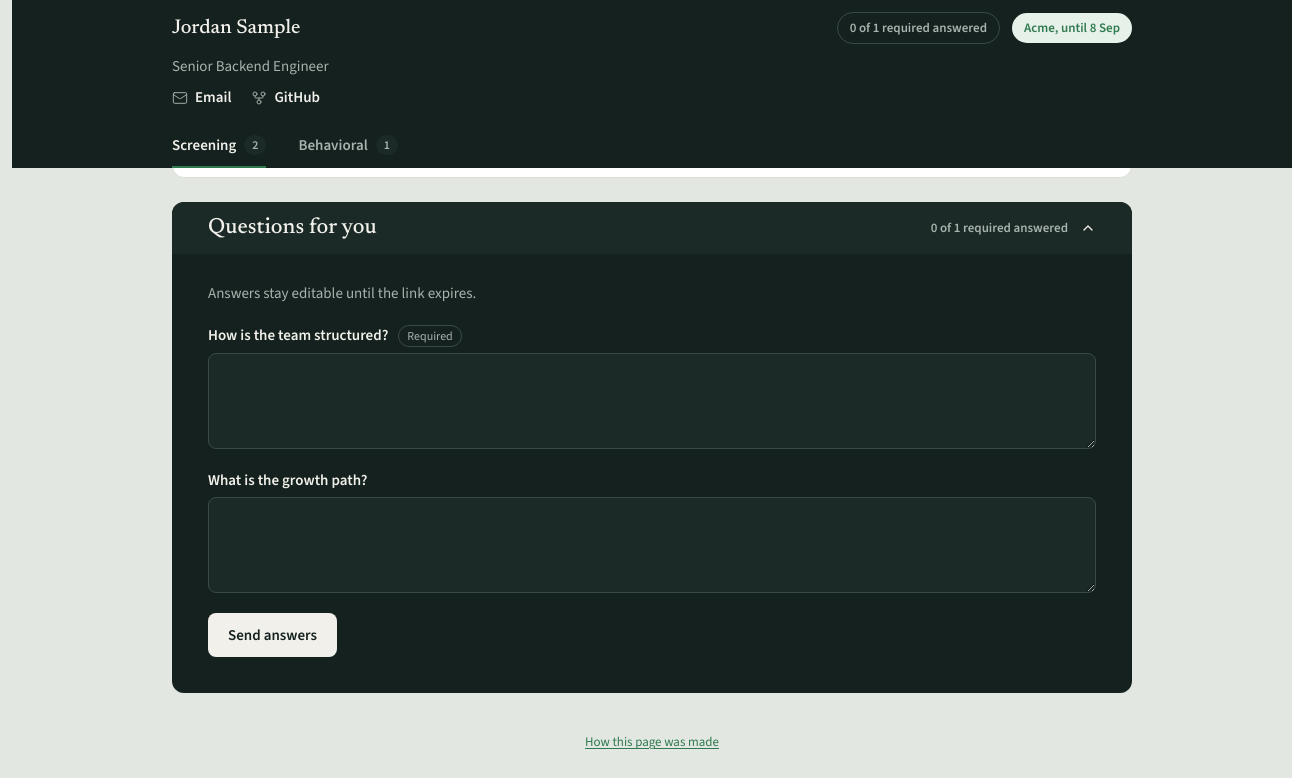
Test: SessionPage › submits answers and shows a submitted state on 201
(page scrolled)
Expected: the heading "Jordan Sample" is shown, [172,18,300,38]
Type "A small platform team." into the text box labelled "How is the team structured? Required".
click(652, 401); type("A small platform team.")  # box [208,353,1096,449]
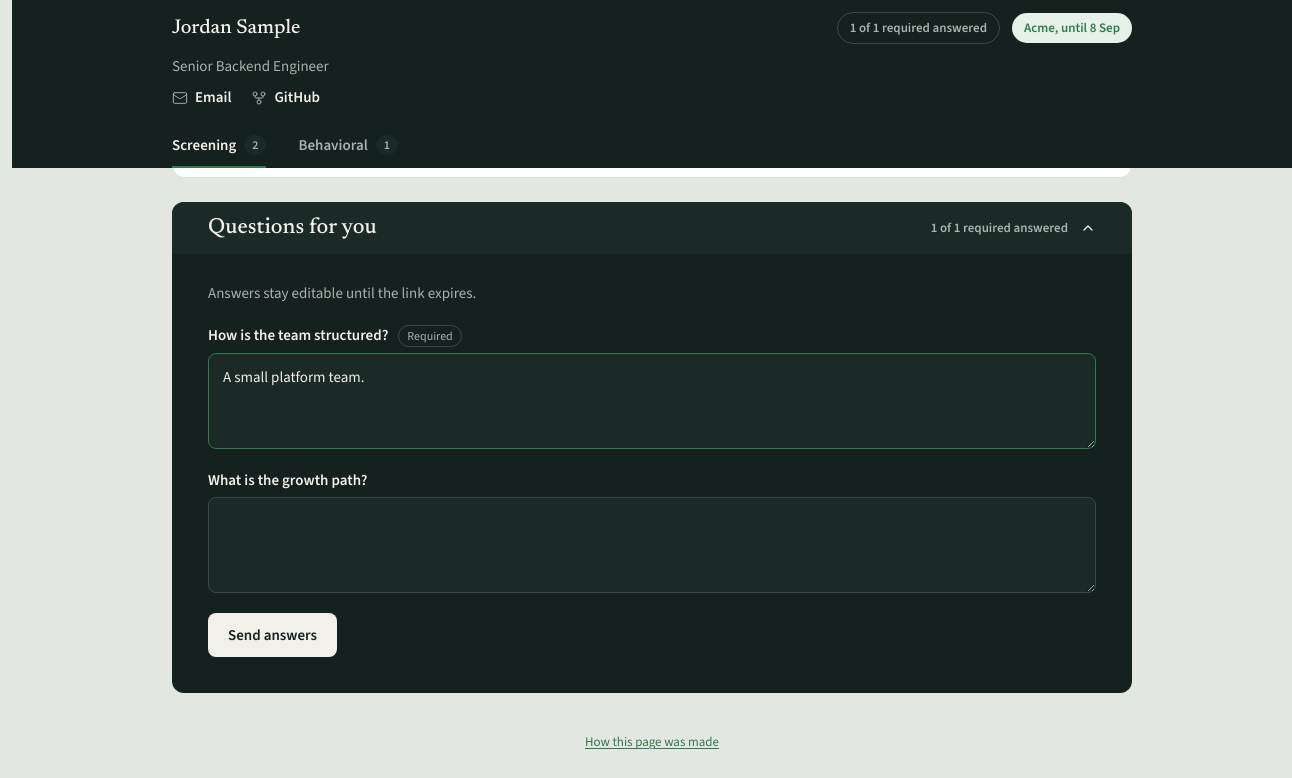
Click the button "Send answers".
click(272, 635)  # box [208,613,337,657]
(page scrolled)
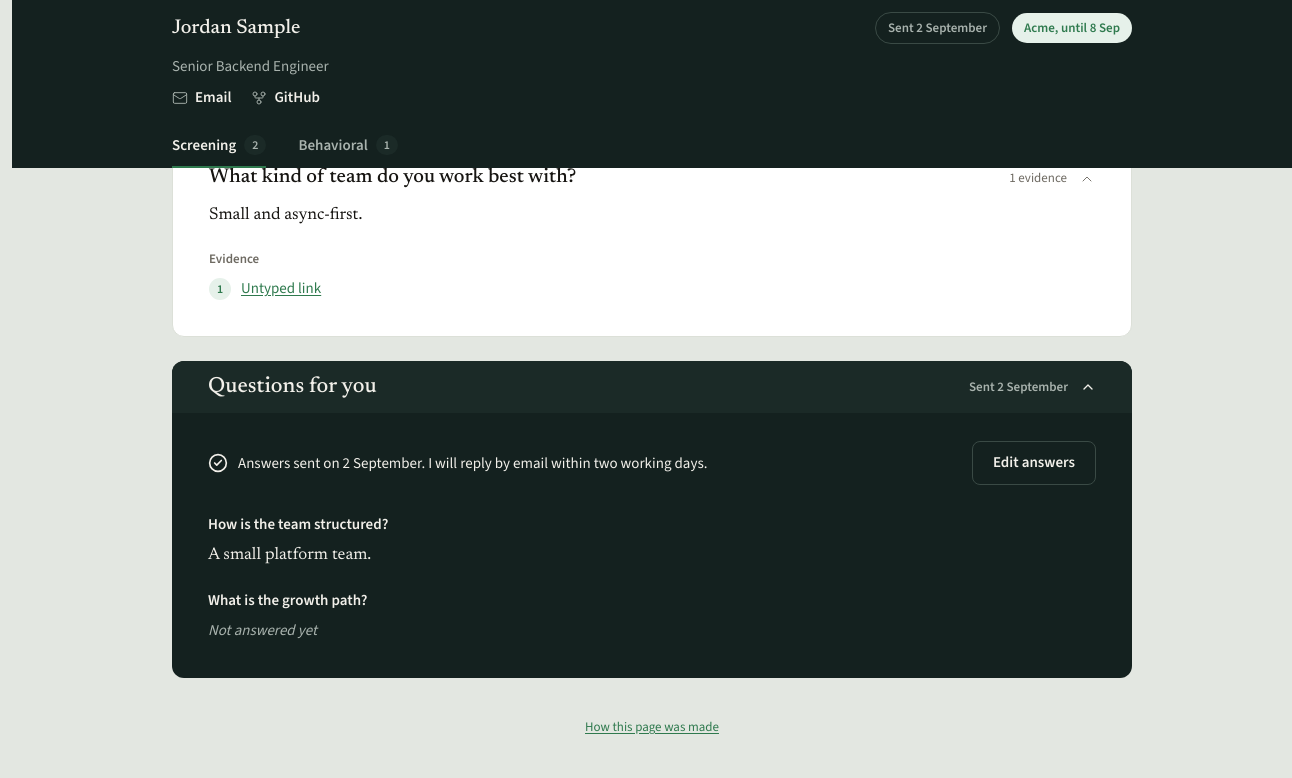
Result: the message "Answers sent on 2 September. I will reply by email within two working days." is shown at [208,452,707,474]
Result: the text "A small platform team." is shown at [208,547,371,564]
